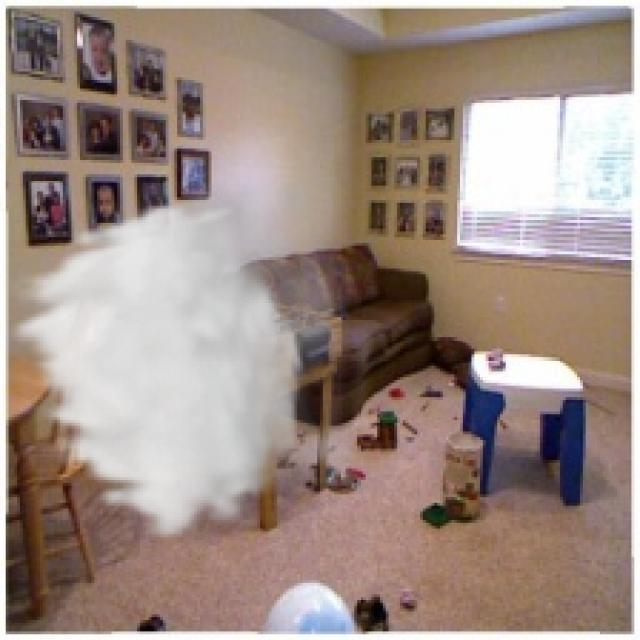Smoke: (2, 128, 378, 543)
